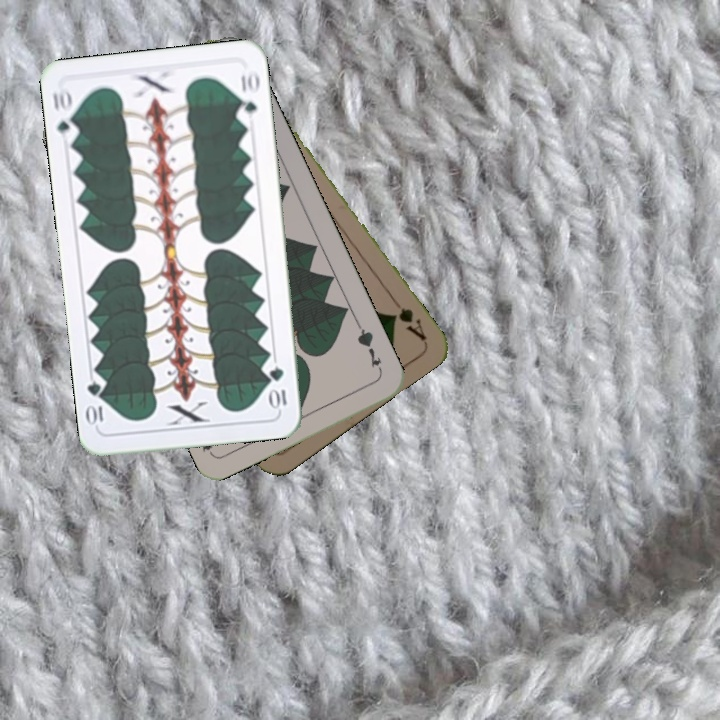G10: (49, 85, 80, 143), (266, 363, 289, 412)
G7: (353, 320, 385, 376)
GA: (387, 293, 429, 344)
